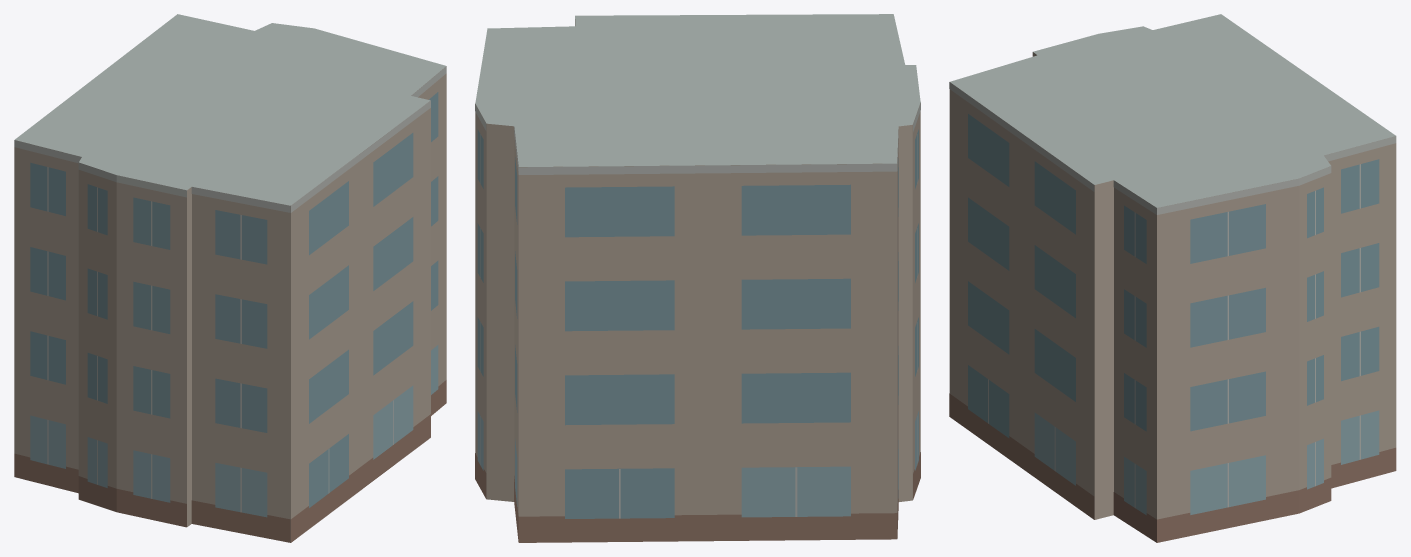
Rendered from survey-upis-32776032.glb.
3 renders of one model, left to right at view 1: azimuth 30°, elevation 25°; view 2: azimuth 150°, elevation 25°; view 3: azimuth 270°, elevation 25°, orthographic. The views are drawn at different scales.
Visible parts, largest first — view 1: survey-upis-32776032.tmp; view 2: survey-upis-32776032.tmp; view 3: survey-upis-32776032.tmp.
Part boxes in pixels (x1=…): survey-upis-32776032.tmp: x1=14, y1=14, x2=446, y2=542; survey-upis-32776032.tmp: x1=475, y1=14, x2=920, y2=542; survey-upis-32776032.tmp: x1=949, y1=14, x2=1396, y2=542.
Size of the model in its own units: 14.16 by 11.4 by 13.79.
